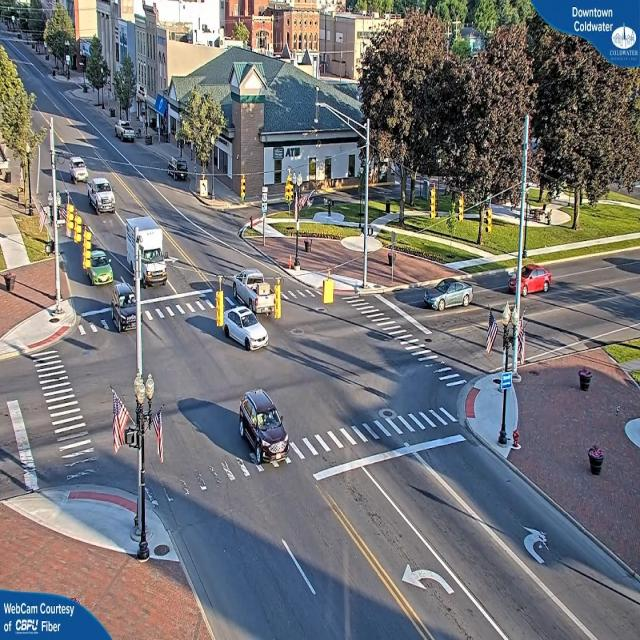car: (238, 391, 292, 470), (221, 300, 271, 350), (232, 270, 277, 318), (422, 276, 474, 310), (108, 280, 146, 326), (508, 263, 554, 296), (86, 178, 117, 214), (88, 248, 113, 286), (586, 443, 606, 475), (164, 159, 190, 180), (116, 123, 136, 143)
truck: (128, 217, 170, 289)
